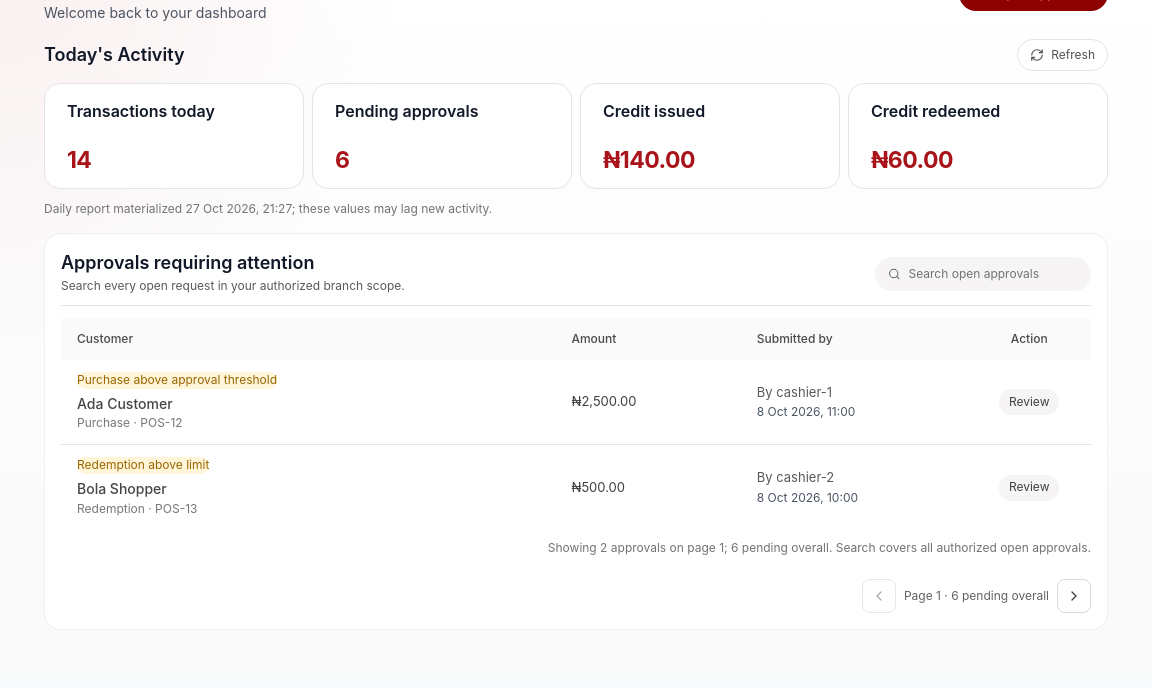
Test: Supervisor overview live reporting › resets to the first result page when the search term changes
Check: the text "Ada Customer" is shown, box [77, 395, 172, 412]
Type "Bola" into the search field named "Search all open approvals" at point(993, 274), box [908, 265, 1078, 283]
(page scrolled)
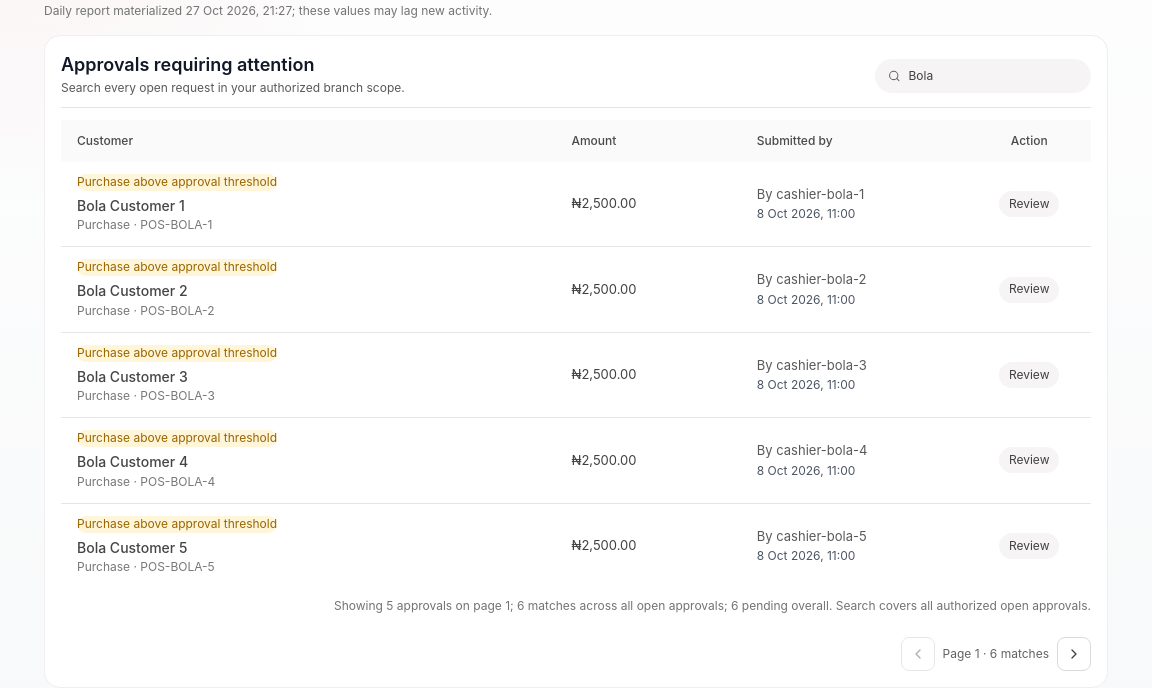
Click the button named "Next approvals page" at point(1074, 654), box [1057, 637, 1091, 671]
(page scrolled)
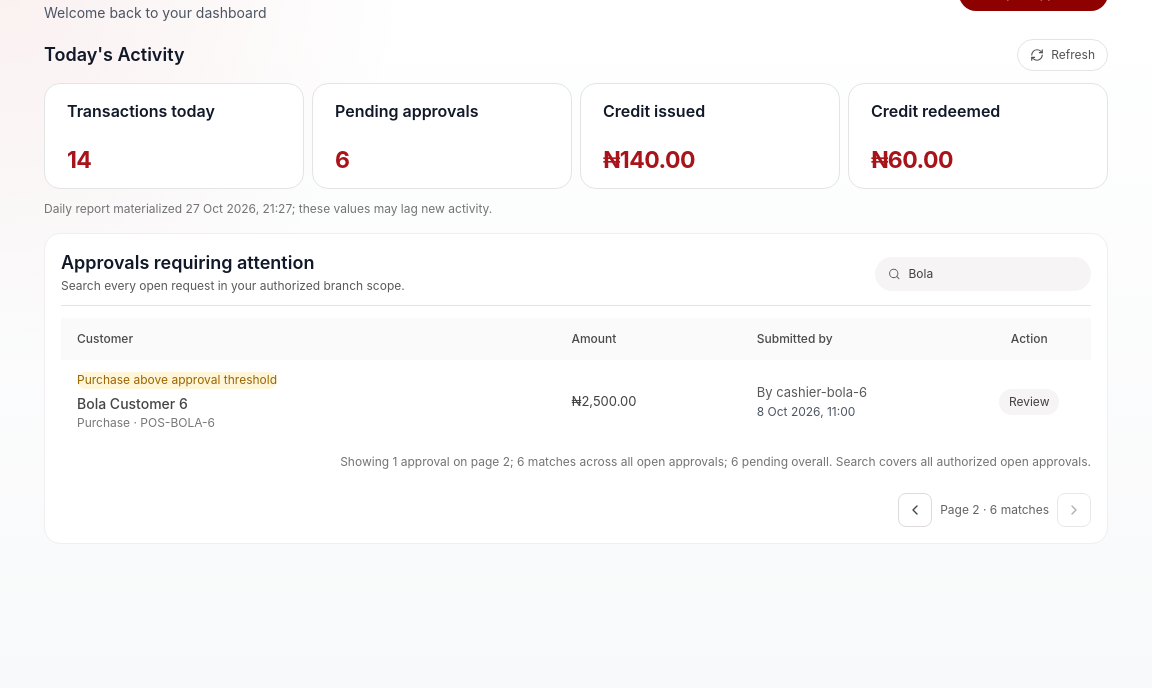
Check: the text "Page 2 · 6 matches" is shown, box [940, 501, 1049, 519]
Replace the text in the search field named "Search all open approvals" with "Zara" at point(993, 274), box [908, 265, 1078, 283]
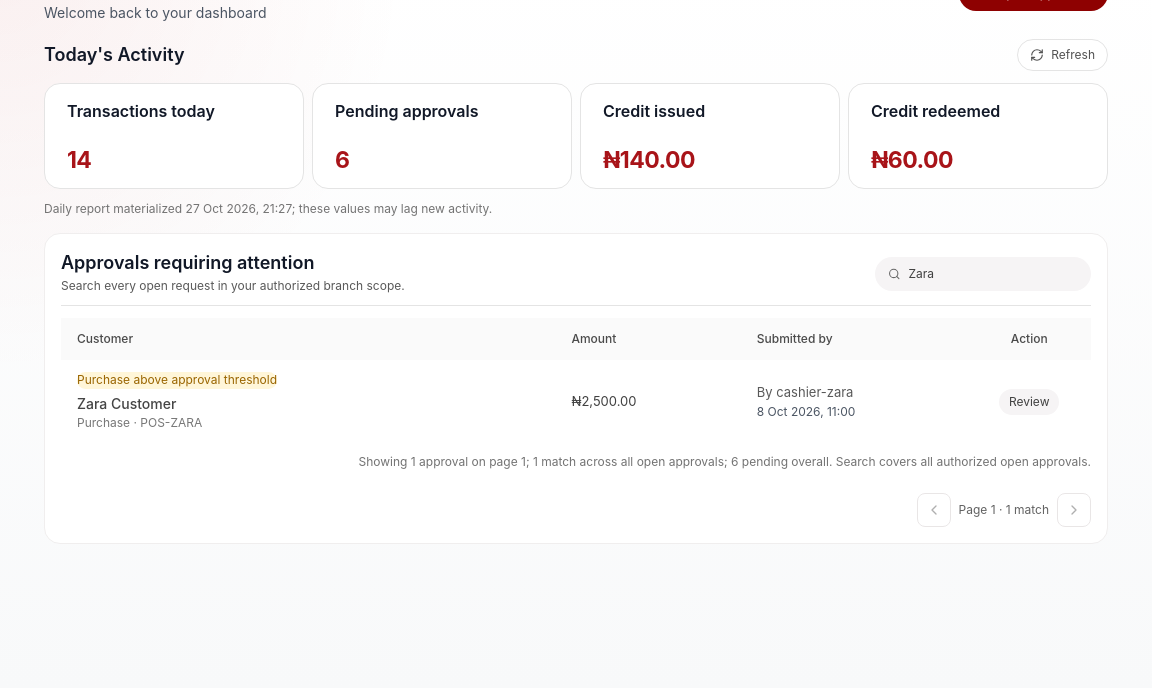
Check: the text "Page 1 · 1 match" is shown, box [958, 501, 1049, 519]
Check: the button named "Previous approvals page" is disabled, box [916, 493, 950, 527]
